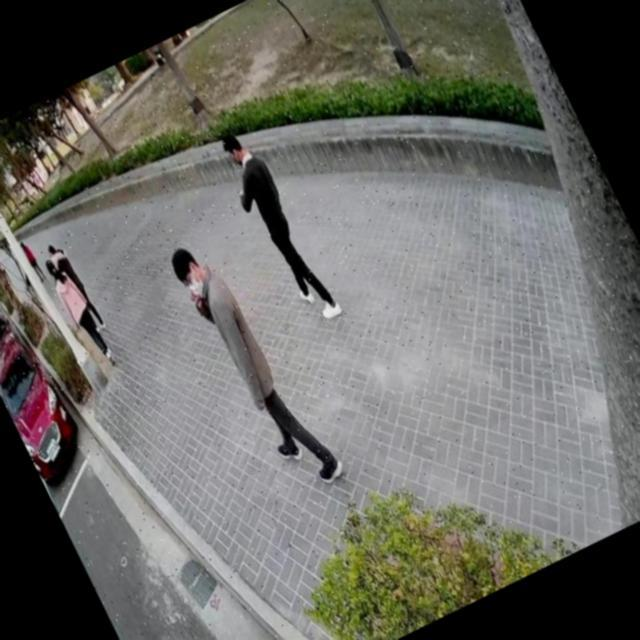person: (160, 215, 352, 508), (204, 111, 348, 335), (39, 246, 122, 374), (40, 230, 112, 338), (14, 232, 52, 288)
